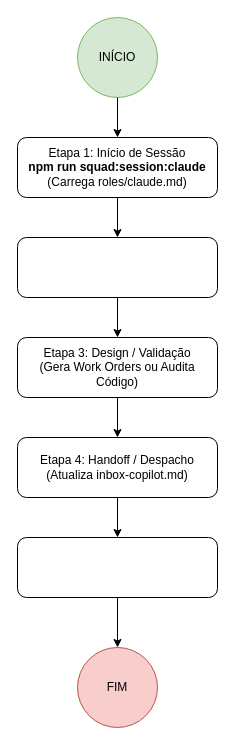
Image size: 235x745. Some labels were removed from this diagram. The centre of each missing label's shape, as x and y in pixels:
Etapa 2: Ingestão de Auditoria (Lê inbox-claude.md): pixel 117 267
Etapa 5: Finalização npm run squad:session:end (Gera Telemetria): pixel 117 567
